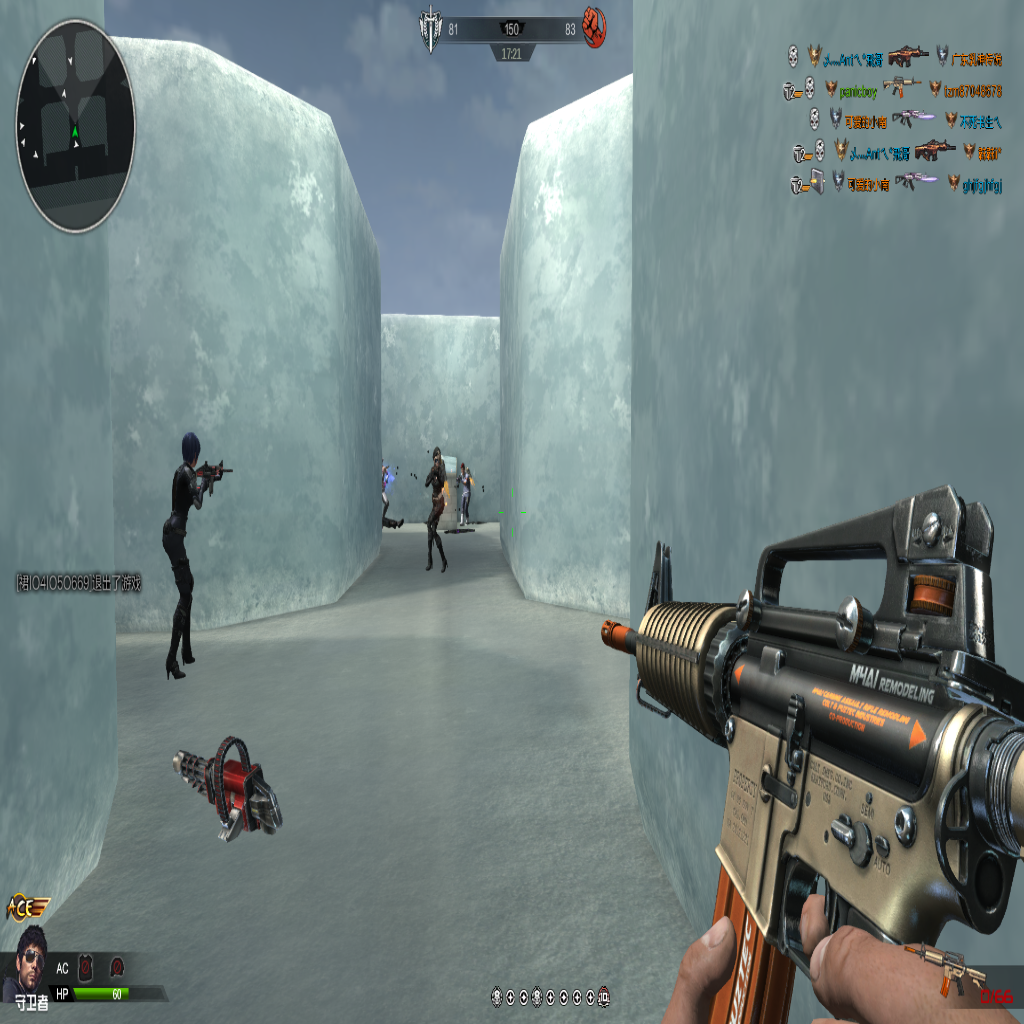tt: (382, 460, 398, 527), (460, 464, 474, 524), (455, 461, 467, 526)
